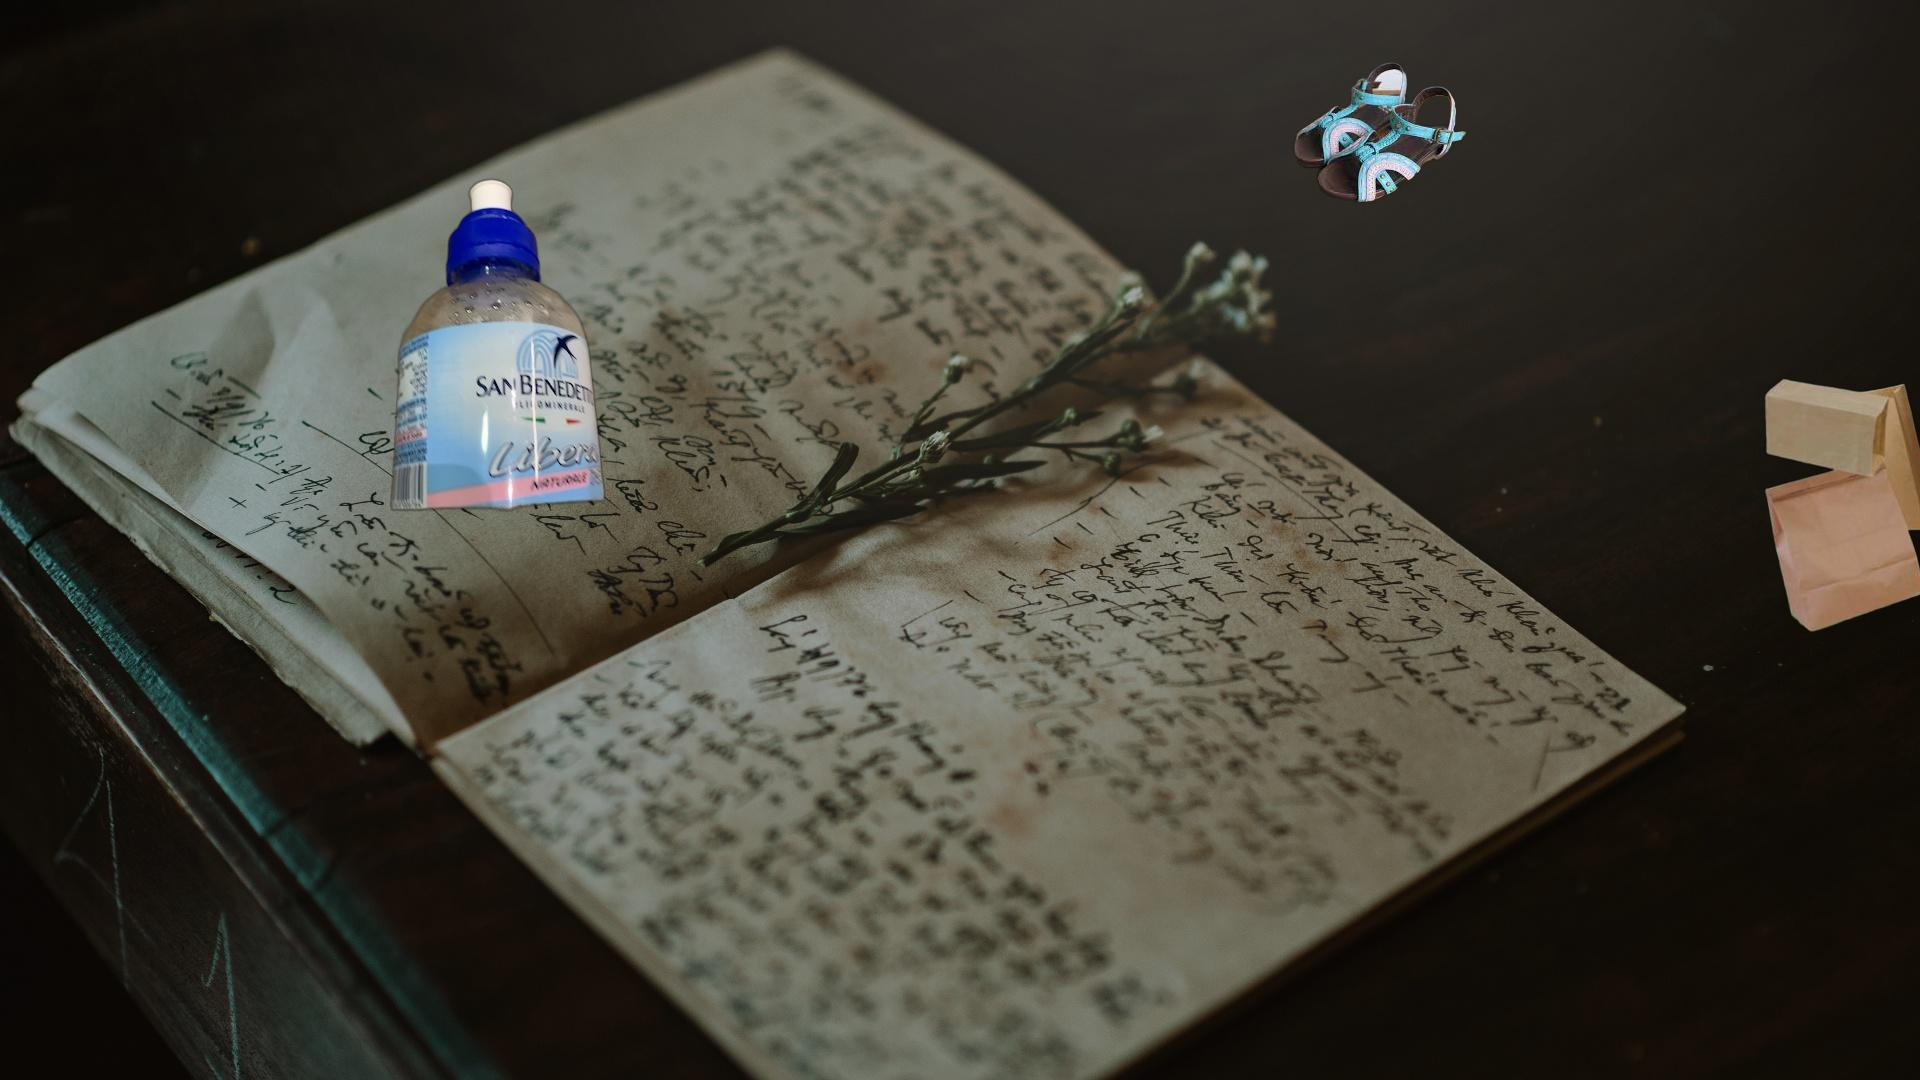paper-bag: (1760, 377, 1920, 634)
plastic-bag: (179, 1044, 415, 1080)
plastic-bottles: (386, 174, 608, 516)
shoes: (1288, 61, 1468, 206)
